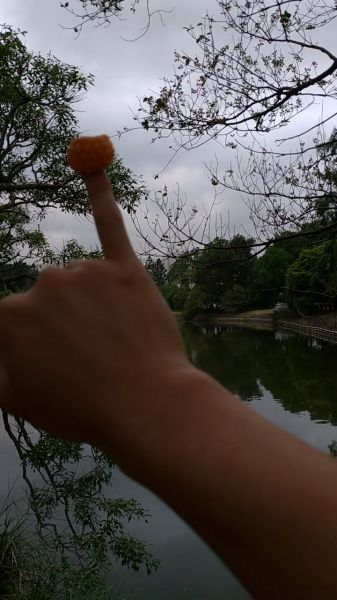eggs: (67, 135, 115, 172)
